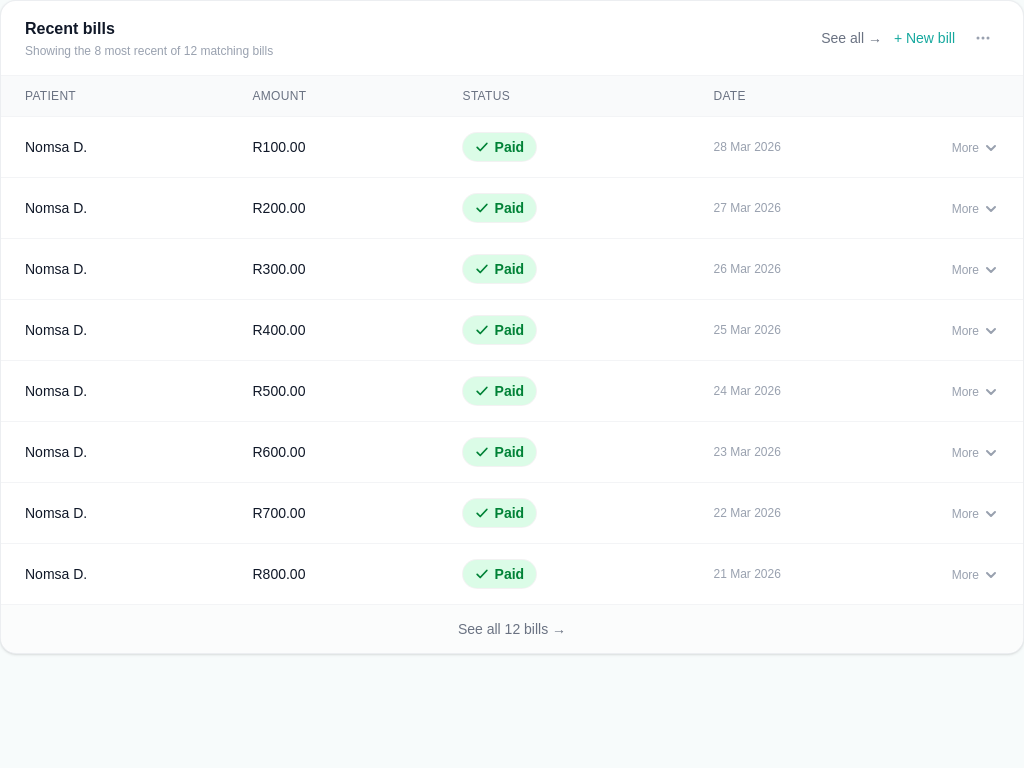
Test: the exports still carry every row › says so about the matching set when filters are on
The width and height of the screenshot is (1024, 768).
Click the button titled "Export": click(983, 38) 967,22 -> 999,54
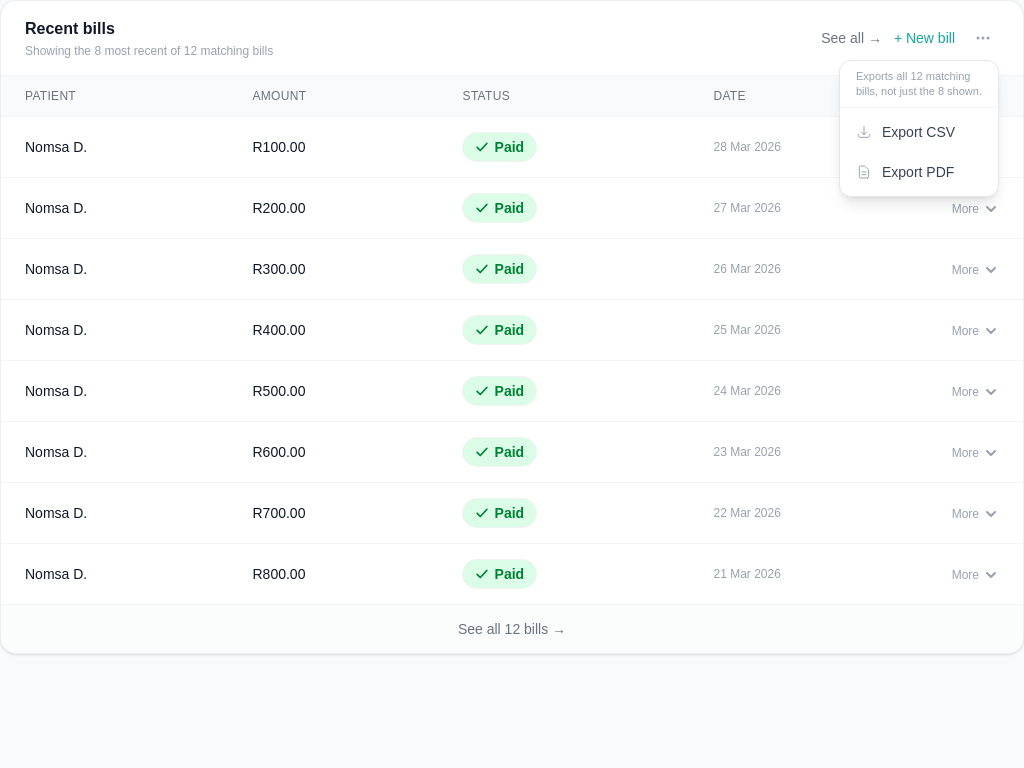
Now the text with test id "bills-export-scope" reads "Exports all 12 matching bills, not just the 8 shown.", box 840,65 -> 998,108
